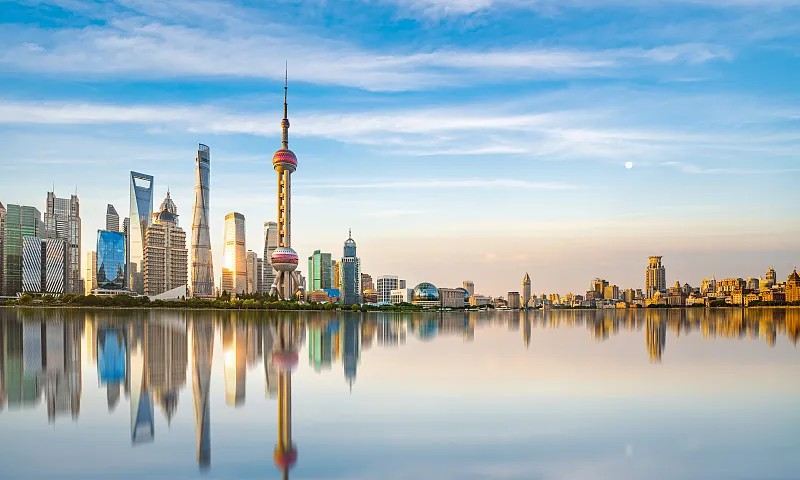Oriental: (269, 60, 298, 296)
